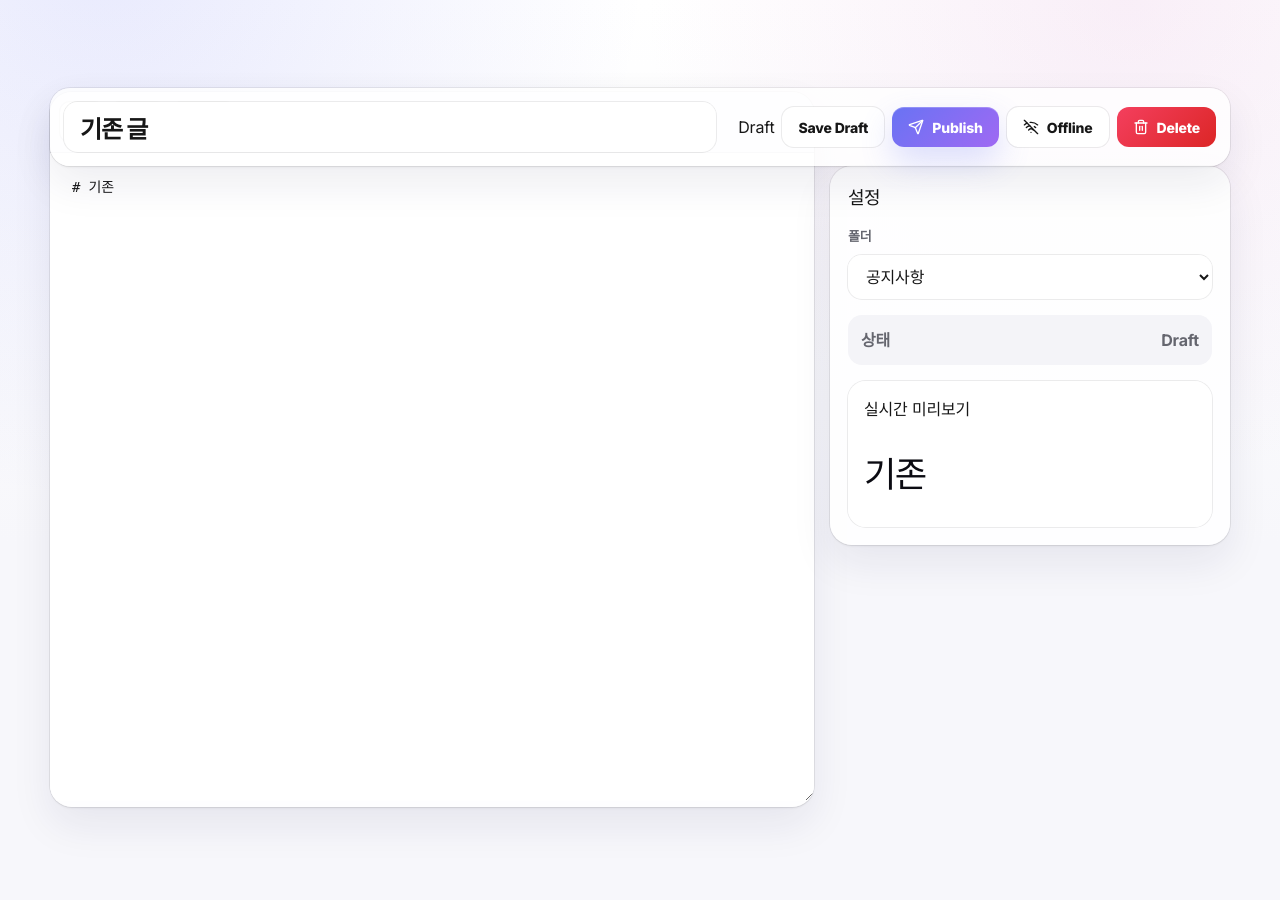
Scenario: ArticleEditPage › 수정 화면에서 기존 게시글을 불러오고 발행 버튼을 처리한다
Expected: the field showing "기존 글" is shown, [64,102,716,152]
Click the button "Publish".
click(946, 127)  # box [892,107,999,147]
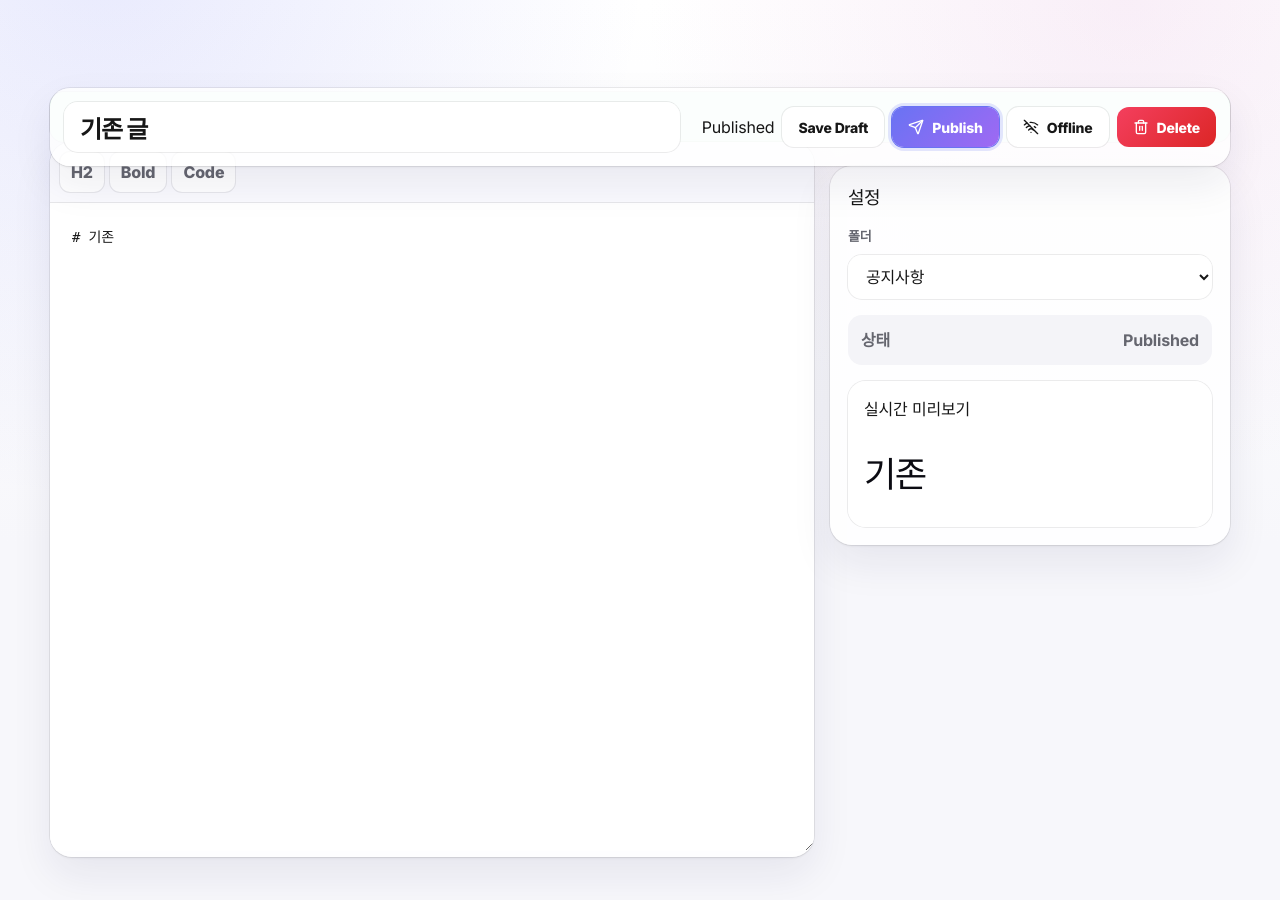
Result: the text "게시글이 발행되었습니다." is shown at [50,92,1230,142]
